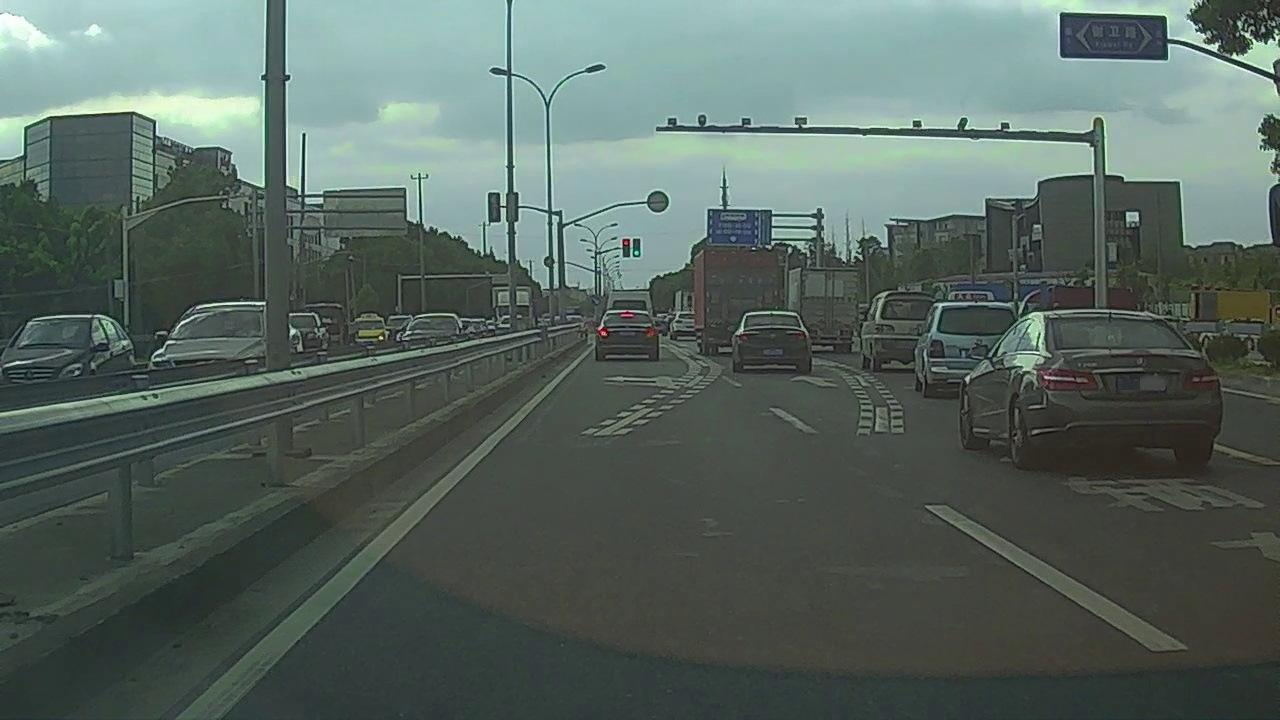traffic_light: (633, 238, 641, 257), (623, 237, 630, 255)
